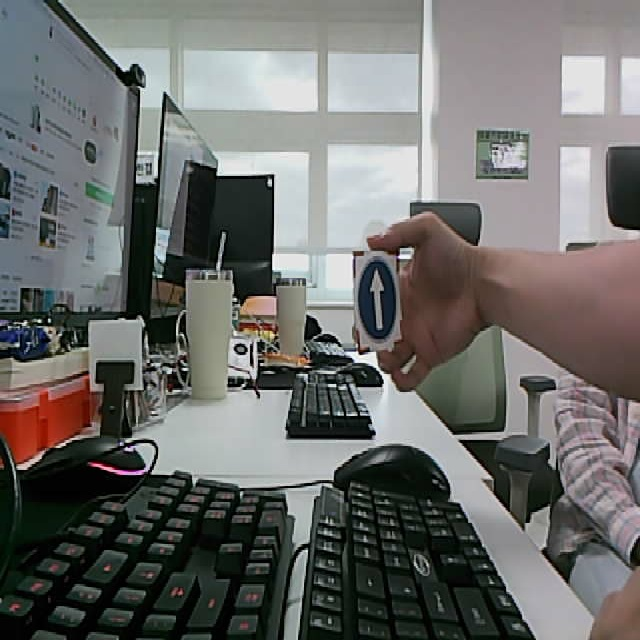straight: (352, 248, 404, 355)
